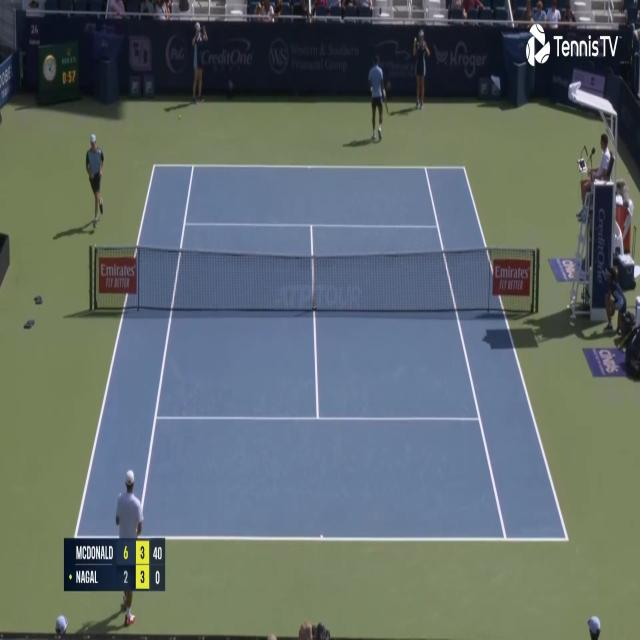tennis-player: (112, 466, 144, 631), (367, 51, 389, 143)
